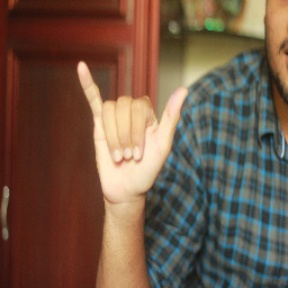J: (74, 57, 189, 198)
